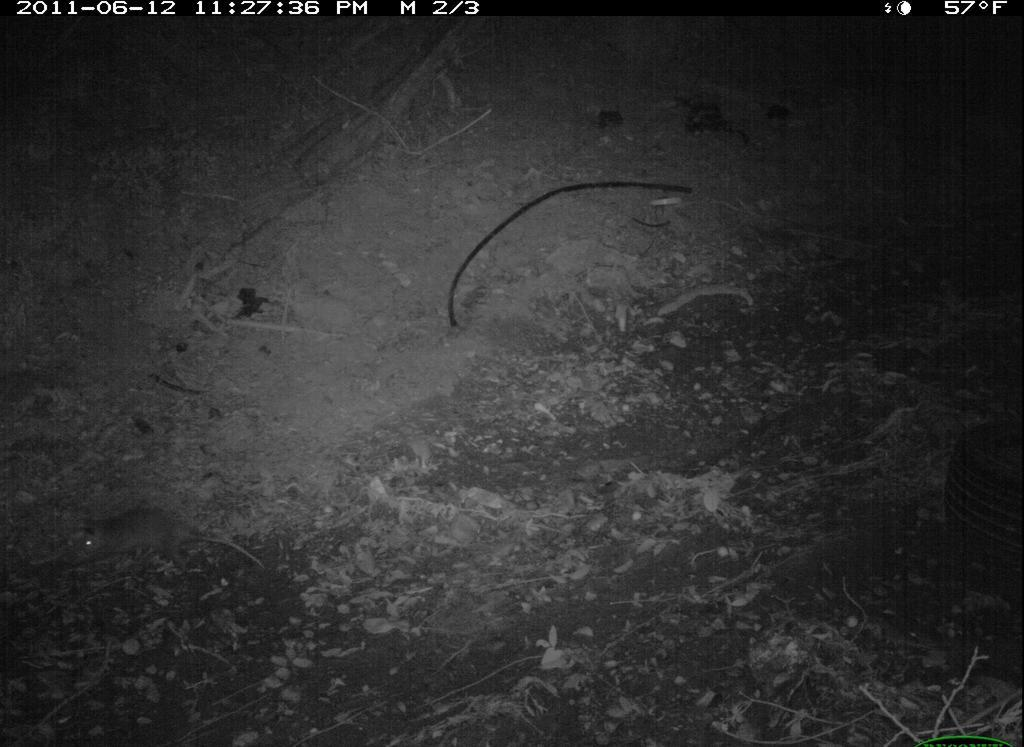opossum: (56, 495, 274, 603)
